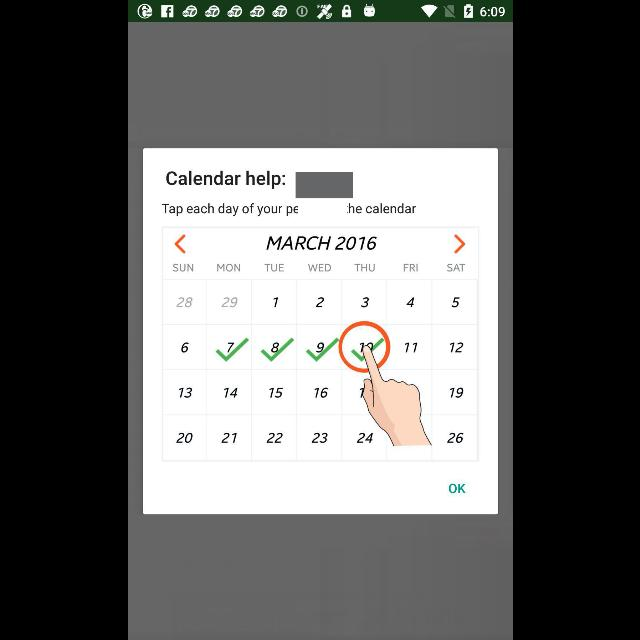image: (162, 226, 478, 462)
panel: (142, 148, 498, 514)
text: (160, 204, 416, 216), (166, 170, 284, 190), (448, 484, 464, 494)
uppertaskbar: (128, 1, 512, 23)
